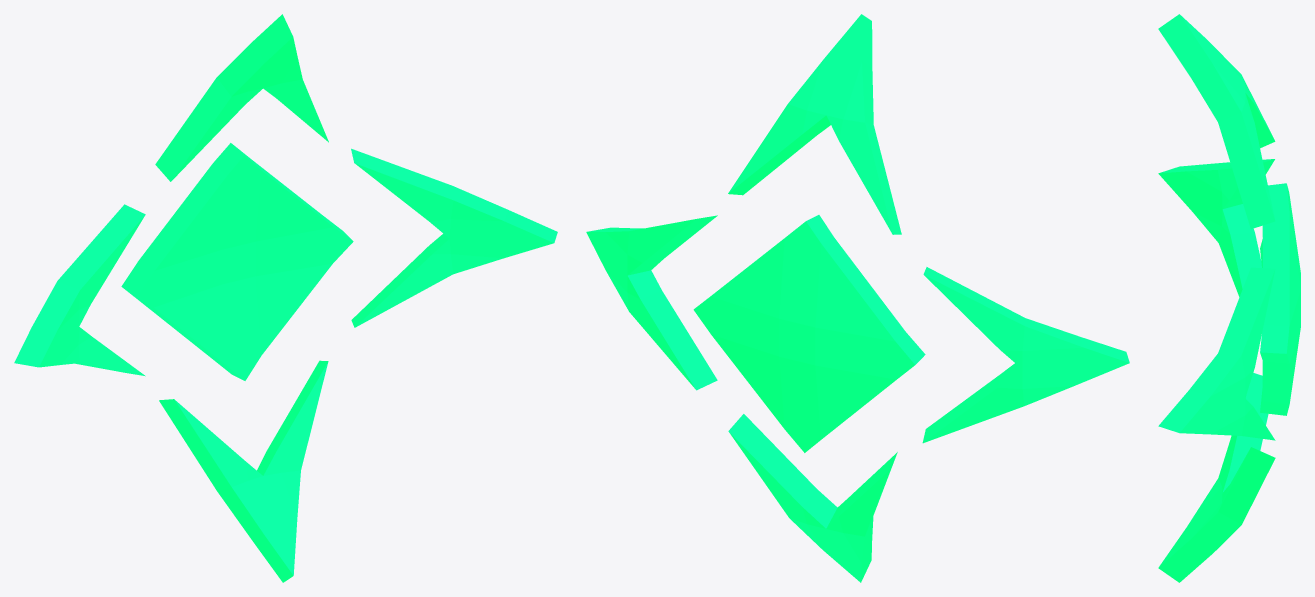
Rendered from shield 2.fbx.
3 renders of one model, left to right at view 1: azimuth 30°, elevation 25°; view 2: azimuth 150°, elevation 25°; view 3: azimuth 270°, elevation 25°, orthographic.
Parts seen in each view (by area): view 1: pirate boy.010; view 2: pirate boy.010; view 3: pirate boy.010.
Part boxes in pixels (x1,y1,x2,y2): pirate boy.010: [14, 14, 557, 582]; pirate boy.010: [586, 14, 1129, 582]; pirate boy.010: [1158, 14, 1300, 582].
Bounding box in the file's own units: 430 × 430 × 97.74.
